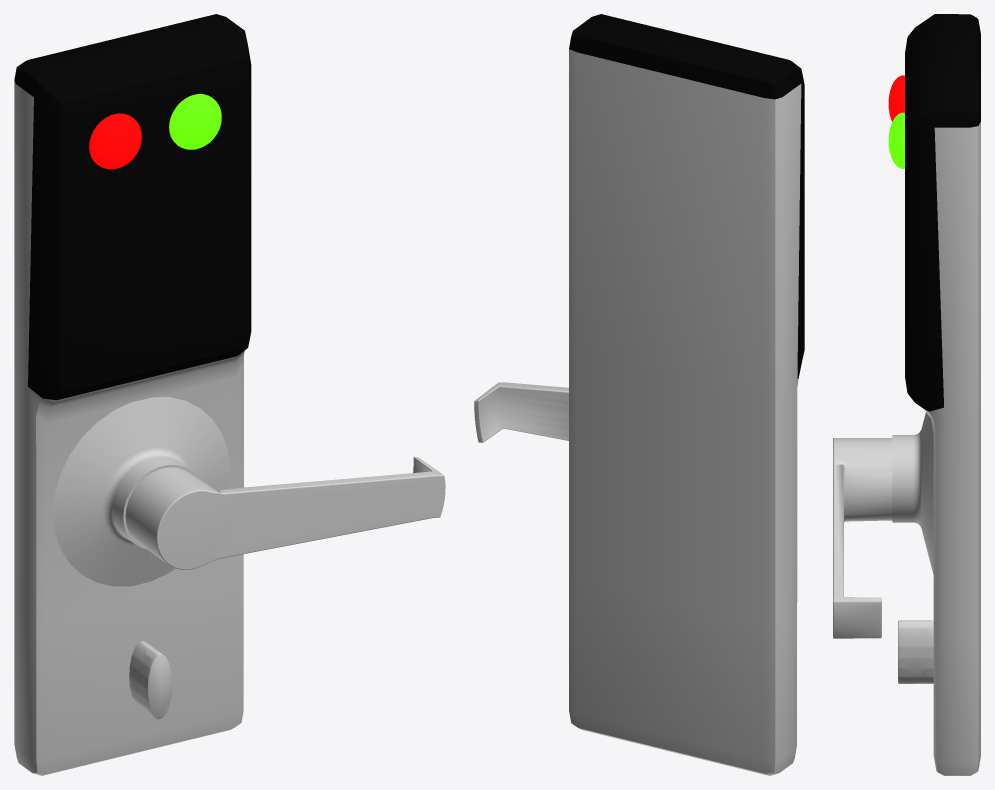
The model's file is EH Card Door Handle (Flipped).fbx.
3 views of the same model, side by side, from view 1: azimuth 30°, elevation 25°; view 2: azimuth 150°, elevation 25°; view 3: azimuth 270°, elevation 25° (orthographic). The views are drawn at different scales.
Visible parts, largest first — view 1: Box002, Handle002, Handle Base002, Cylinder002, Sphere004, Sphere003; view 2: Box002, Handle002; view 3: Box002, Handle002, Handle Base002, Cylinder002, Sphere003, Sphere004.
Part boxes in pixels (bbox=[...]): Box002: bbox=[14, 14, 251, 775]; Handle002: bbox=[125, 456, 445, 569]; Handle Base002: bbox=[53, 397, 229, 586]; Cylinder002: bbox=[129, 641, 172, 719]; Sphere004: bbox=[89, 113, 141, 169]; Sphere003: bbox=[169, 94, 221, 149]; Box002: bbox=[569, 14, 804, 775]; Handle002: bbox=[474, 382, 568, 442]; Box002: bbox=[905, 14, 980, 775]; Handle002: bbox=[833, 438, 892, 638]; Handle Base002: bbox=[892, 412, 933, 574]; Cylinder002: bbox=[898, 620, 933, 683]; Sphere003: bbox=[888, 112, 904, 168]; Sphere004: bbox=[888, 75, 904, 121].
Bounding box in the file's own units: 8.81 × 16.51 × 3.28.
